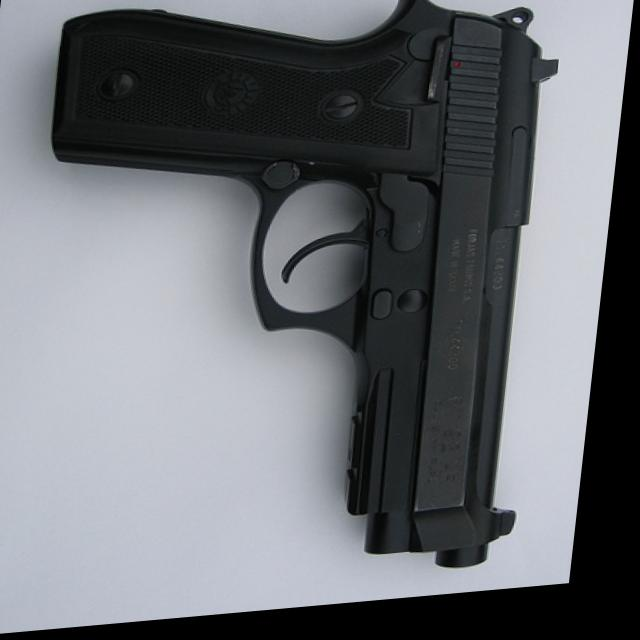handgun: (11, 0, 579, 611)
